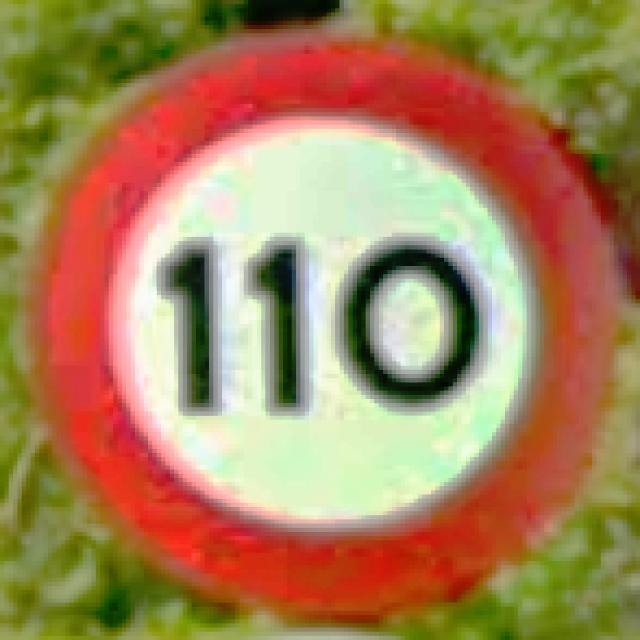max110: (18, 21, 618, 623)
